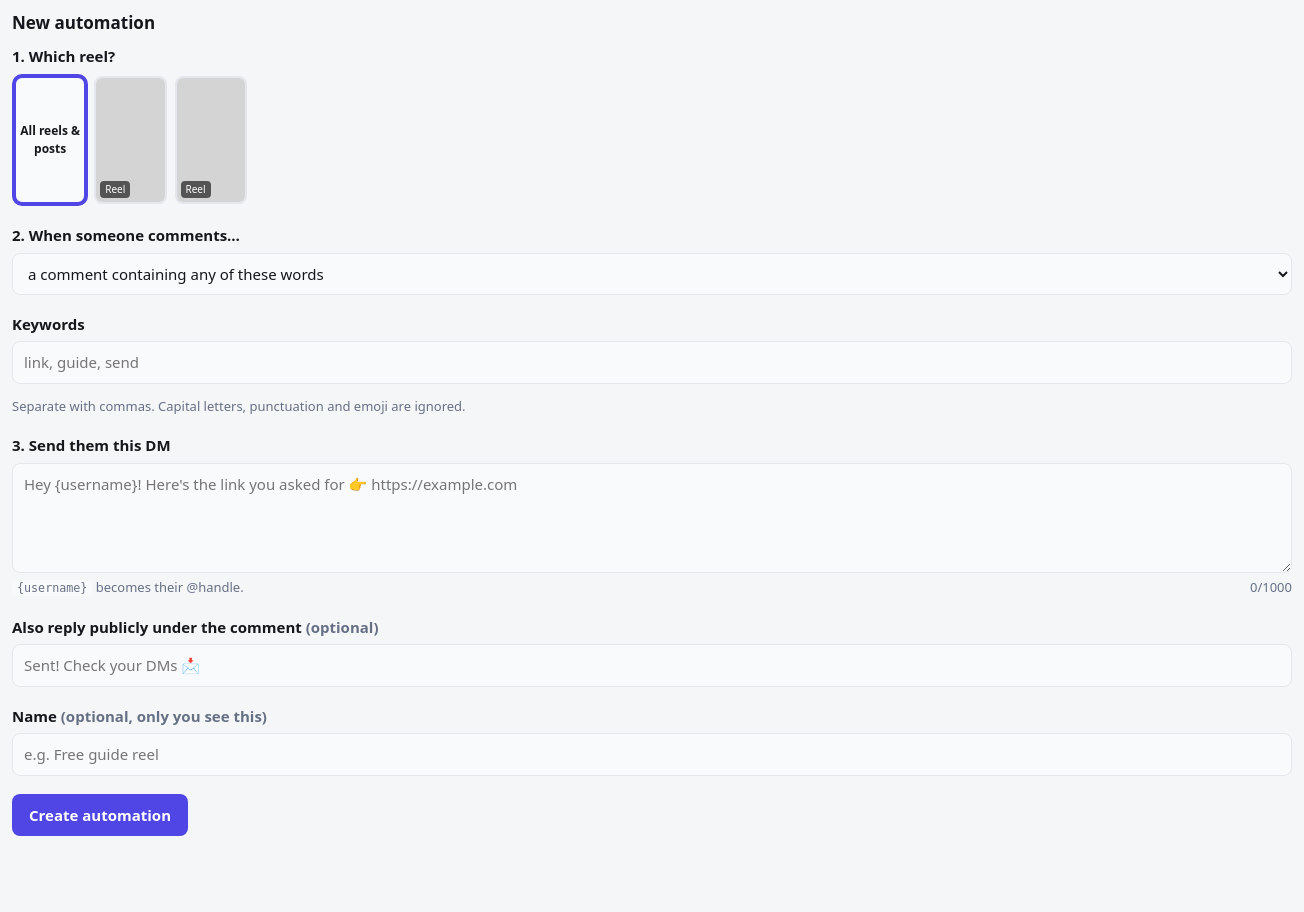
Test: validates before calling the API
The image size is (1304, 912).
Click the button "Create automation". click: x=100, y=815
box: [12,794,188,836]
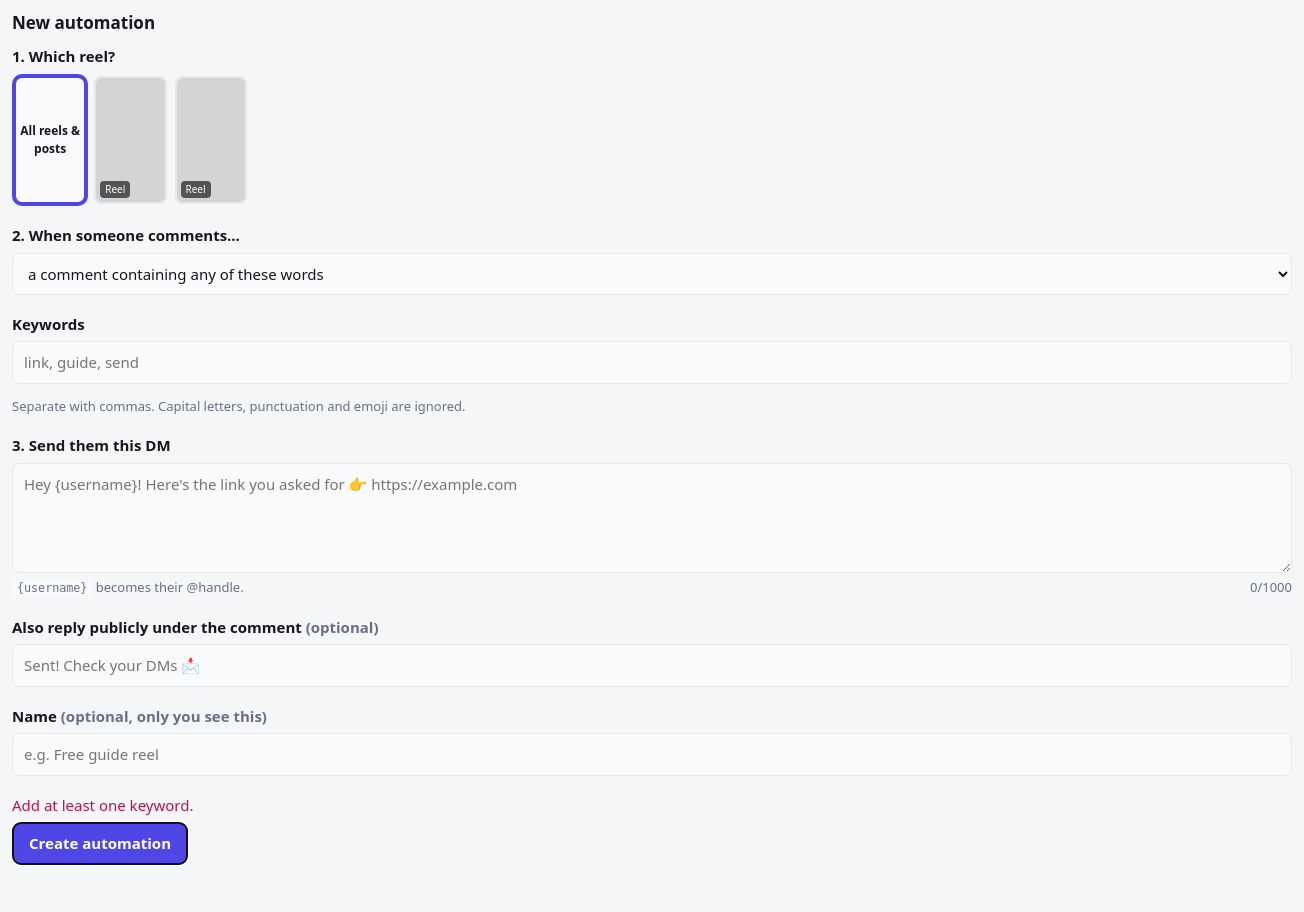
expect the message shows "Add at least one keyword": met, box [12,795,194,815]
Type "link" into the field labelled "Keywords". click: x=652, y=362
box: [12,341,1292,384]
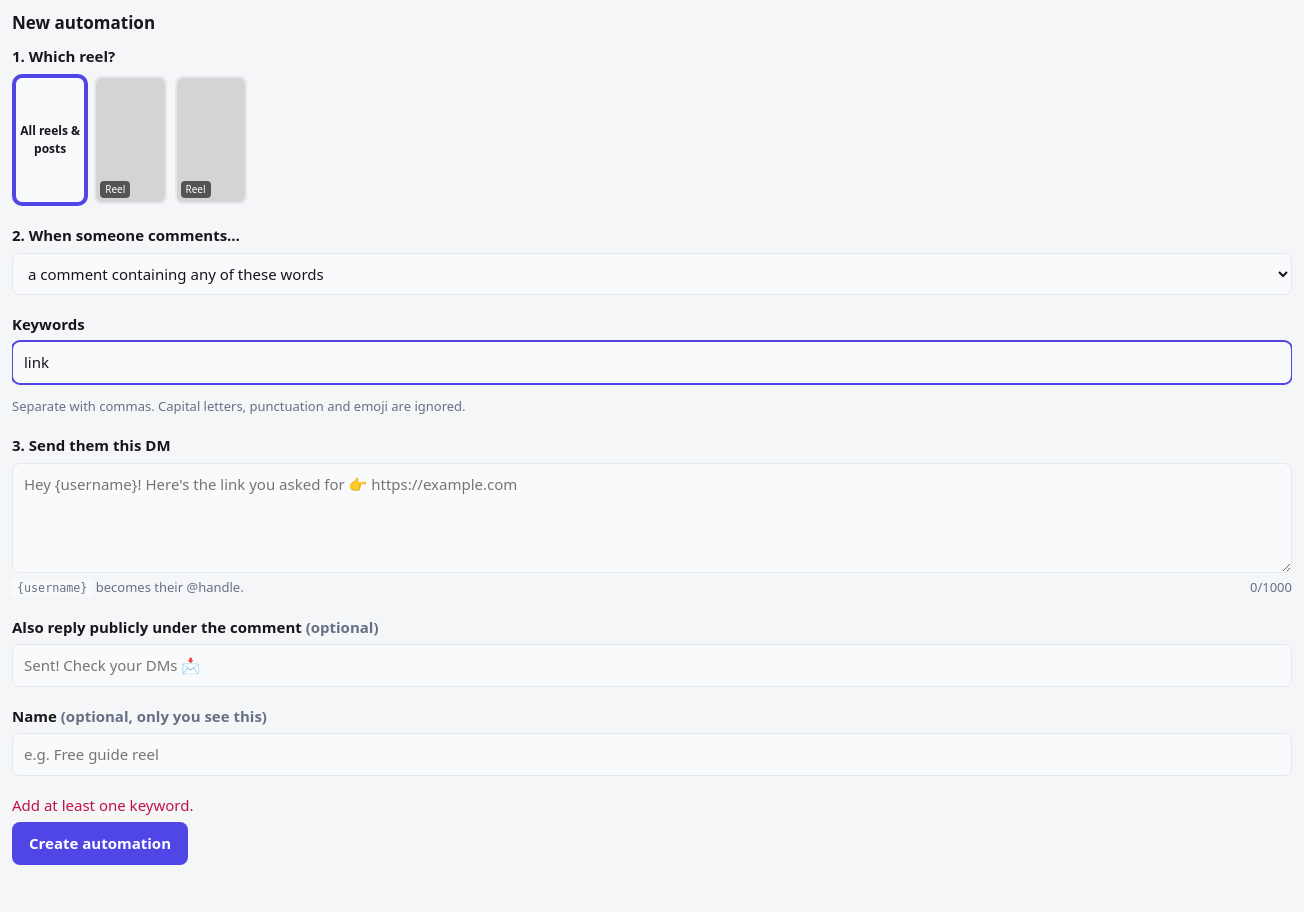
Click the button "Create automation". click: x=100, y=843
box: [12,822,188,865]
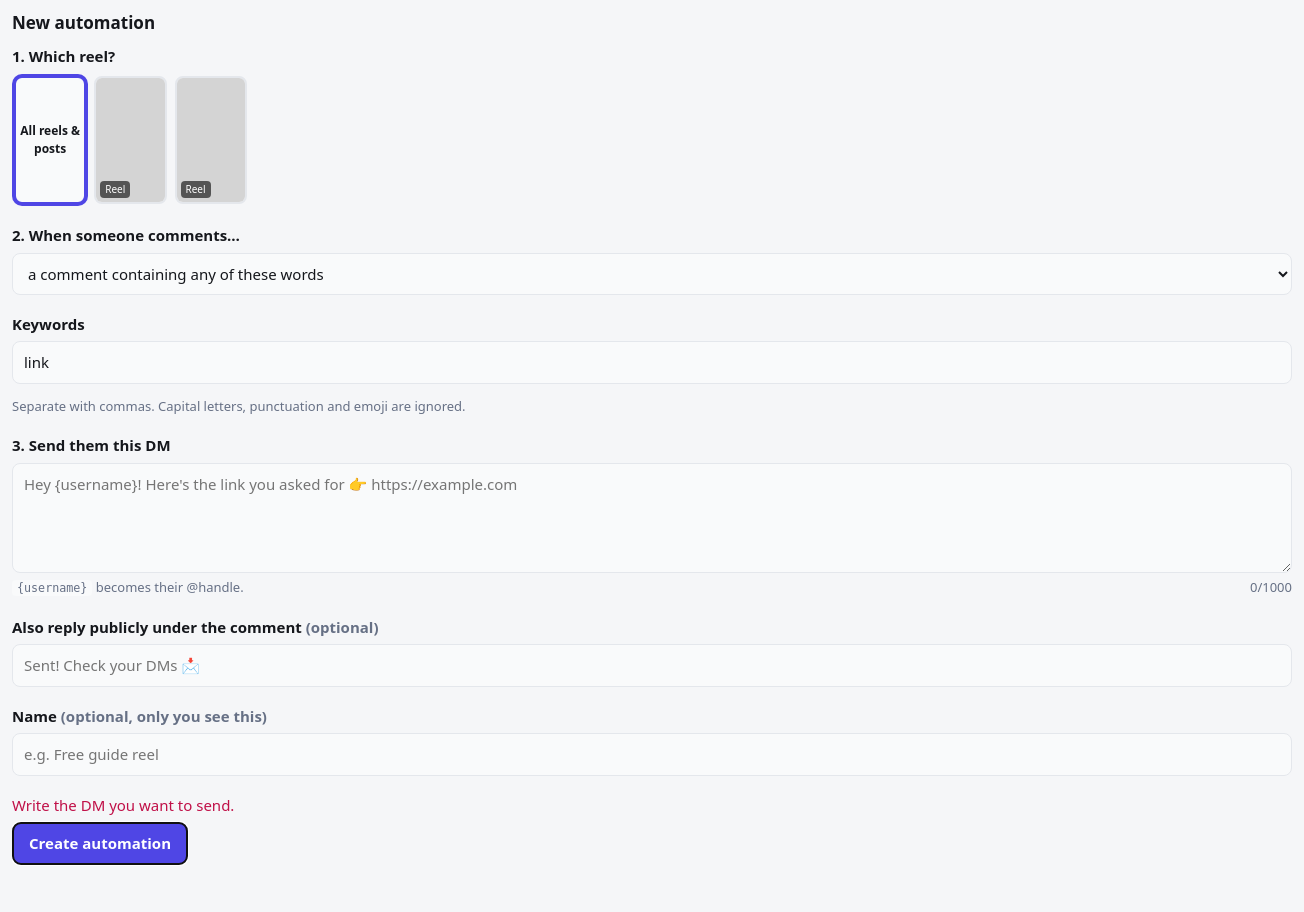
expect the message shows "Write the DM": met, box [12,795,234,815]
